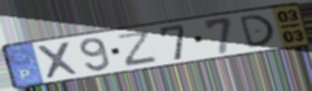7: (202, 16, 235, 56), (158, 24, 187, 62)
9: (79, 36, 113, 72)
D: (237, 13, 277, 50)
X: (34, 40, 82, 80)
Z: (117, 29, 159, 68)
